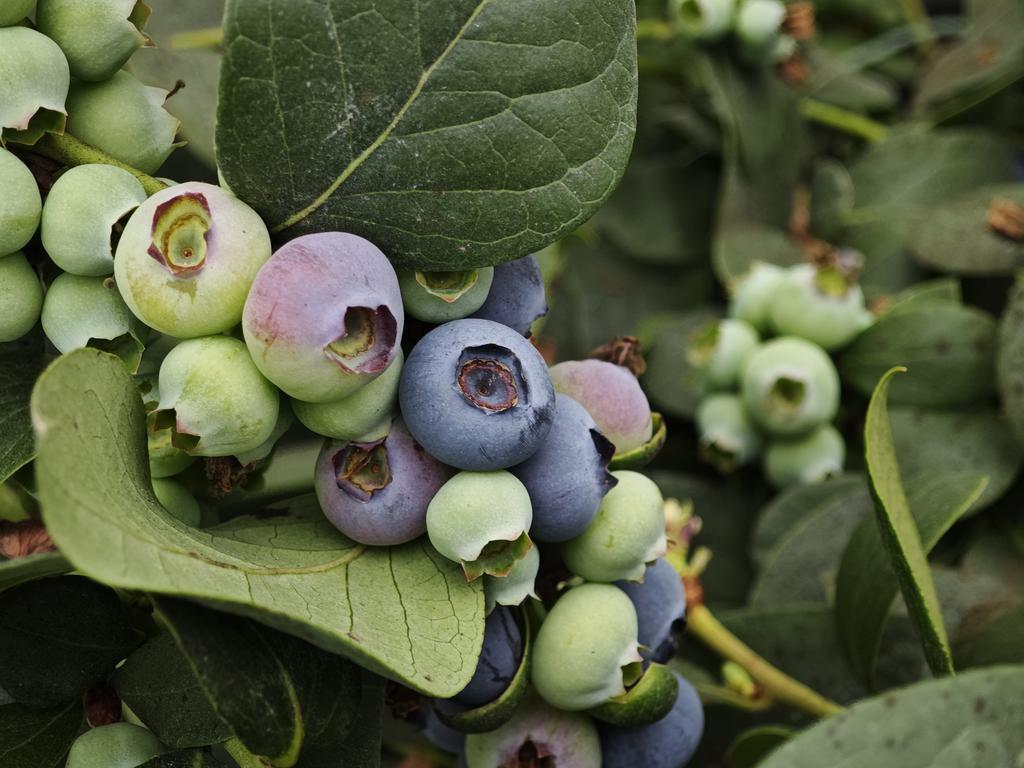RipeBlueBerry: (404, 315, 560, 473)
Semi-RipeBlueBerry: (239, 227, 408, 408)
UnripeBlueBerry: (112, 177, 275, 341)
